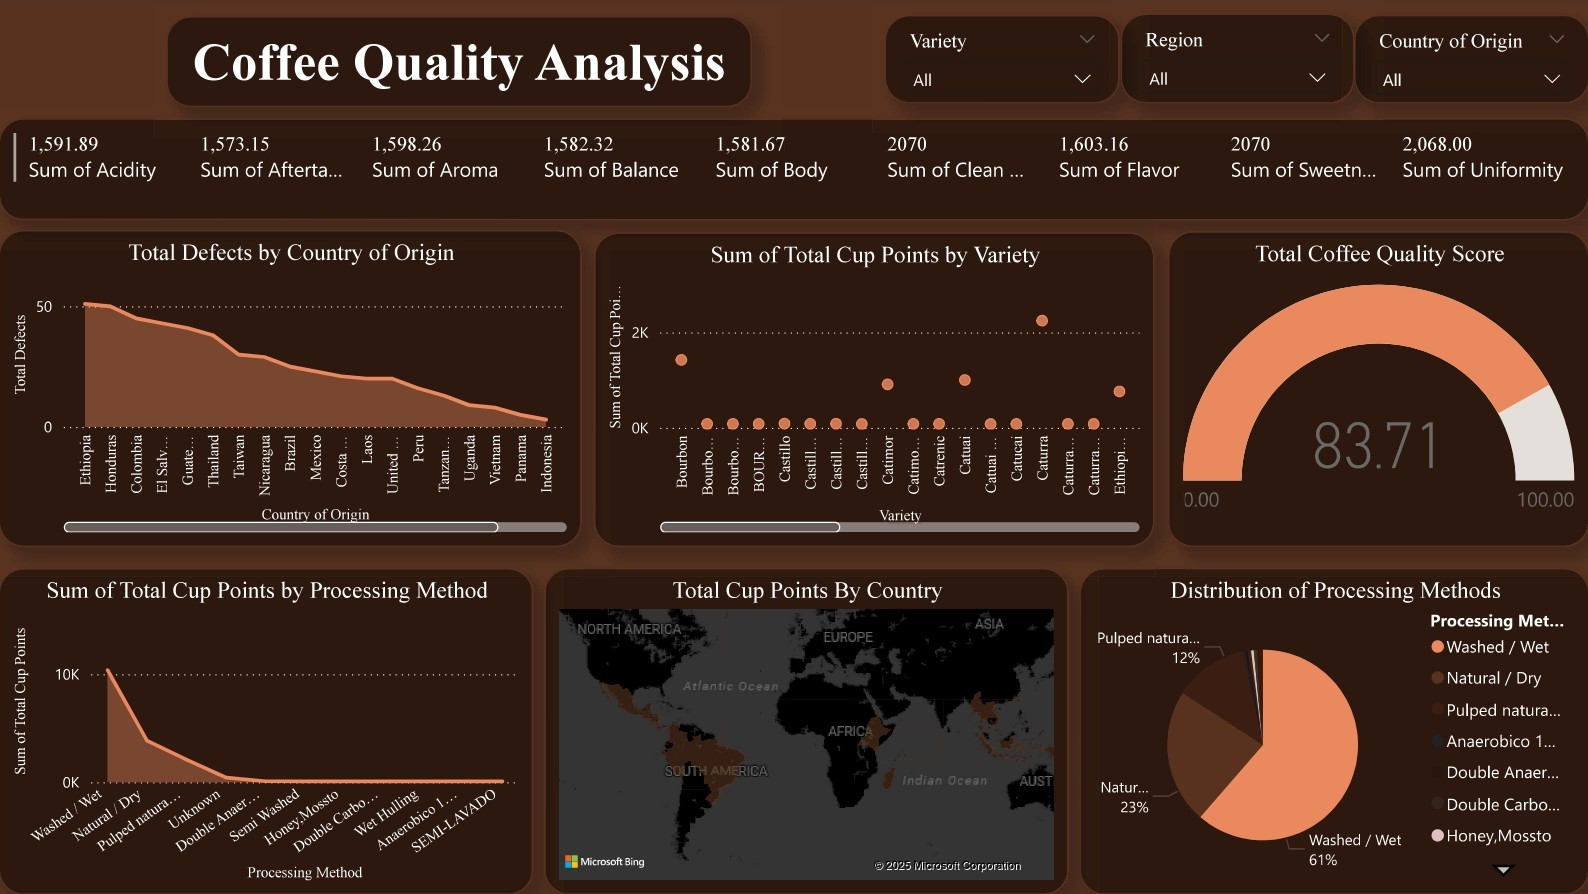

What the dashboard file says about the page in this screenshot:
{"tool":"powerbi","page":{"name":"COFFEE QUALITY ANALYSIS DASHBOARD","canvas":[1280,720],"ordinal":0},"visuals":[{"type":"multiRowCard","title":"Individual Sensory Attribute Scores Contributing to Coffee Quality","fields":{"Values":["Sum(df_arabica_clean.Acidity)","Sum(df_arabica_clean.Aftertaste)","Sum(df_arabica_clean.Aroma)","Sum(df_arabica_clean.Balance)","Sum(df_arabica_clean.Body)","Sum(df_arabica_clean.Clean Cup)","Sum(df_arabica_clean.Flavor)","Sum(df_arabica_clean.Sweetness)","Sum(df_arabica_clean.Uniformity)"]},"box":[0,94.5,1280,82.1],"z":0},{"type":"gauge","title":"Total Coffee Quality Score","fields":{"Y":["Avg(df_arabica_clean.Total Cup Points)"]},"box":[941.2,186.2,338.8,253.8],"z":1000},{"type":"slicer","fields":{"Values":["df_arabica_clean.Variety"]},"box":[712.8,12.4,189.1,70.9],"z":2000},{"type":"slicer","fields":{"Values":["df_arabica_clean.Region"]},"box":[903.1,11.2,187.8,72.1],"z":3000},{"type":"slicer","fields":{"Values":["df_arabica_clean.Country of Origin"]},"box":[1091,12.4,189.1,70.9],"z":4000},{"type":"pieChart","title":"Distribution of Processing Methods","fields":{"Category":["df_arabica_clean.Processing Method"],"Y":["CountNonNull(df_arabica_clean.Total Cup Points)"]},"box":[869.5,456.5,410.5,263.7],"z":5000},{"type":"areaChart","fields":{"Category":["df_arabica_clean.Processing Method"],"Y":["Sum(df_arabica_clean.Total Cup Points)"]},"box":[0,456.5,430.4,263.7],"z":6000},{"type":"textbox","box":[135,12.5,471.2,73.8],"z":7000},{"type":"areaChart","fields":{"Category":["df_arabica_clean.Country of Origin"],"Y":["df_arabica_clean.Total Defects"]},"box":[0,185.3,469,255],"z":8000},{"type":"scatterChart","fields":{"Y":["Sum(df_arabica_clean.Total Cup Points)"],"X":["df_arabica_clean.Variety"]},"box":[478.9,186.6,451.6,253.8],"z":9000},{"type":"filledMap","title":"Total Cup Points By Country","fields":{"Category":["df_arabica_clean.Country of Origin"]},"box":[439.1,456.5,421.7,263.7],"z":11000}]}

Visuals, with their boxes in screenshot pixels (x1, y1, x2, y2), scaled from the page's 1280x720 canvas onto the 1588x894 screenshot:
"Individual Sensory Attribute Scores Contributing to Coffee Quality" multiRowCard: detection(0, 117, 1587, 219)
"Total Coffee Quality Score" gauge: detection(1168, 231, 1587, 546)
slicer - df_arabica_clean.Variety: detection(884, 15, 1119, 103)
slicer - df_arabica_clean.Region: detection(1120, 14, 1353, 103)
slicer - df_arabica_clean.Country of Origin: detection(1354, 15, 1587, 103)
"Distribution of Processing Methods" pieChart: detection(1079, 567, 1587, 893)
areaChart - df_arabica_clean.Processing Method x Sum(df_arabica_clean.Total Cup Points): detection(0, 567, 534, 893)
textbox: detection(167, 16, 752, 107)
areaChart - df_arabica_clean.Country of Origin x df_arabica_clean.Total Defects: detection(0, 230, 582, 547)
scatterChart - Sum(df_arabica_clean.Total Cup Points) x df_arabica_clean.Variety: detection(594, 232, 1154, 547)
"Total Cup Points By Country" filledMap: detection(545, 567, 1068, 893)
